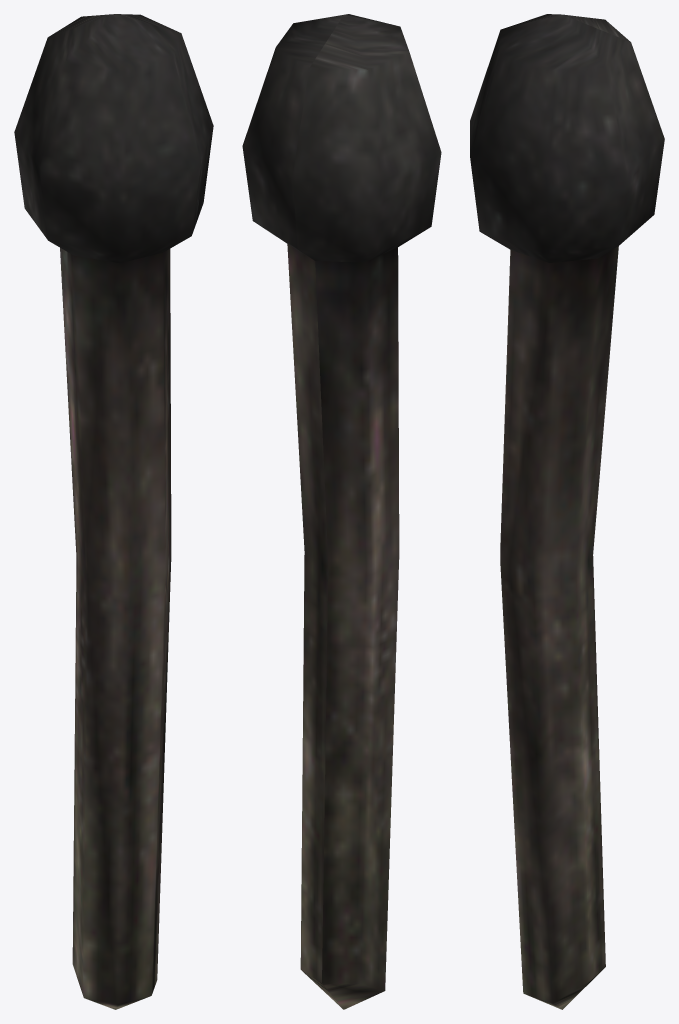
The model's file is Torch_Wood.fbx.
3 views of the same model, side by side, from view 1: azimuth 30°, elevation 25°; view 2: azimuth 150°, elevation 25°; view 3: azimuth 270°, elevation 25° (orthographic).
Visible parts, largest first — view 1: TorchWood; view 2: TorchWood; view 3: TorchWood.
Part boxes in pixels (left/top/right/bottom): TorchWood: left=14, top=14, right=213, bottom=1009; TorchWood: left=242, top=14, right=441, bottom=1009; TorchWood: left=470, top=14, right=664, bottom=1009.
Bounding box in the file's own units: 7.26 × 39.95 × 7.08.
Materials: 1 (1 with a texture image).
